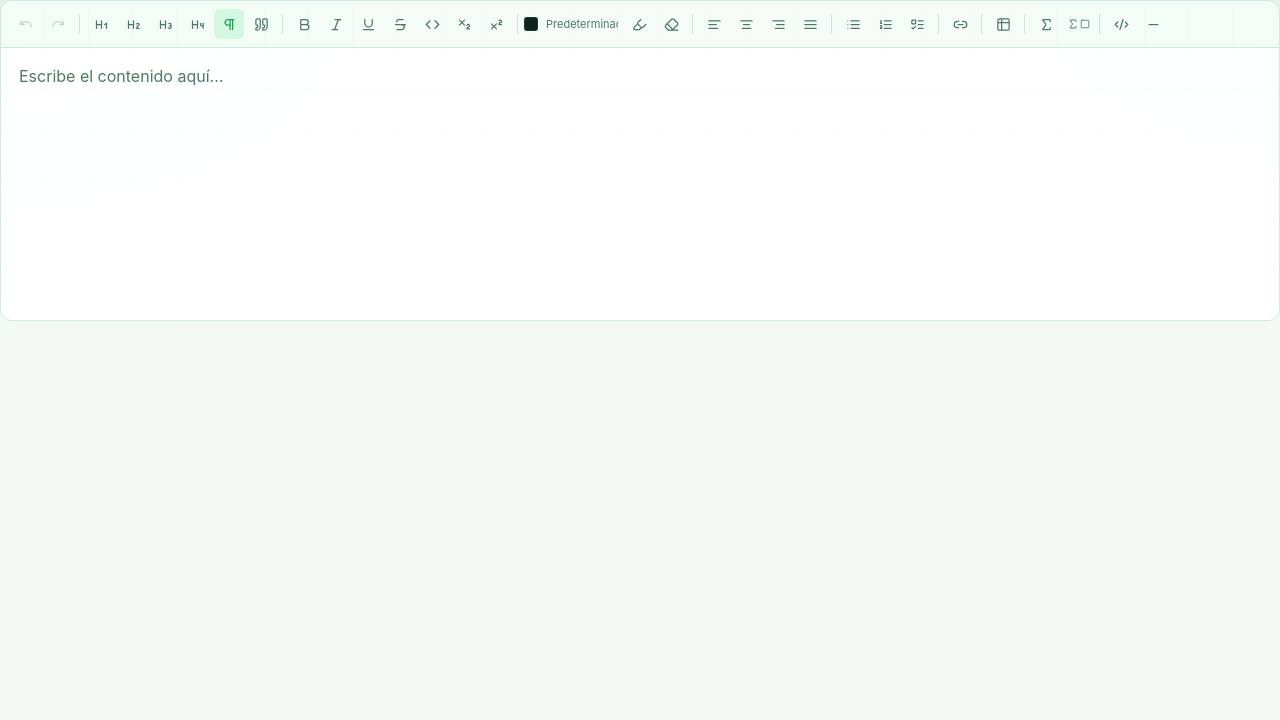
Test: Math formula support › math modal closes on cancel button click
Click the button titled "Fórmula en línea (∑)".
click(1046, 24)  # box [1031,9,1061,39]
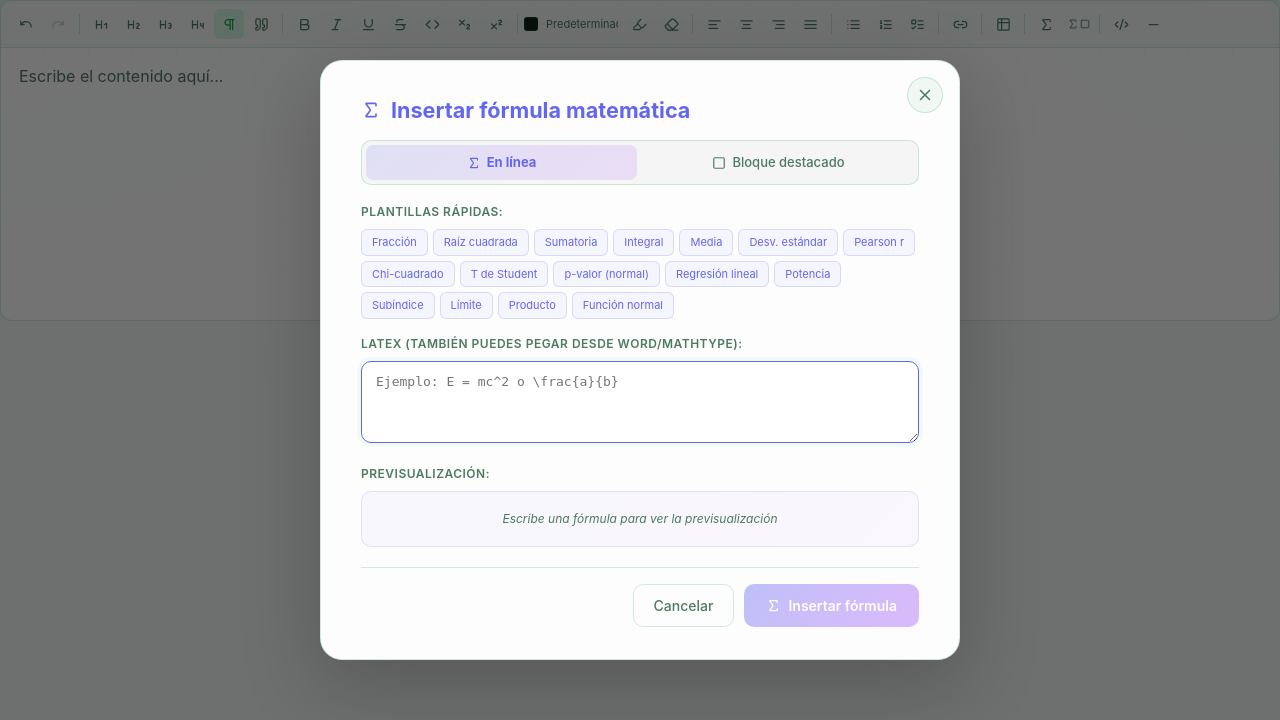
Check: the heading "Insertar fórmula matemática" is shown, box [361,97,690,123]
Click the button "Cancelar".
click(684, 606)  # box [633,584,734,627]
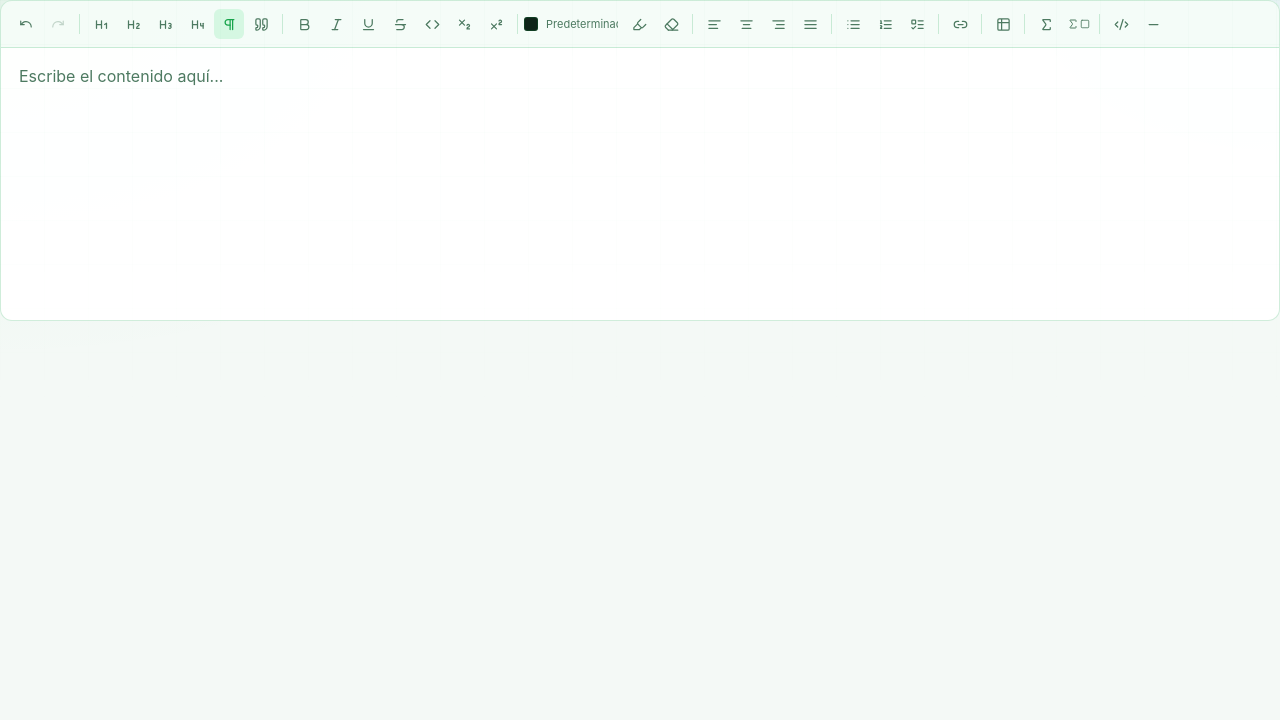
Check: the heading "Insertar fórmula matemática" is gone
